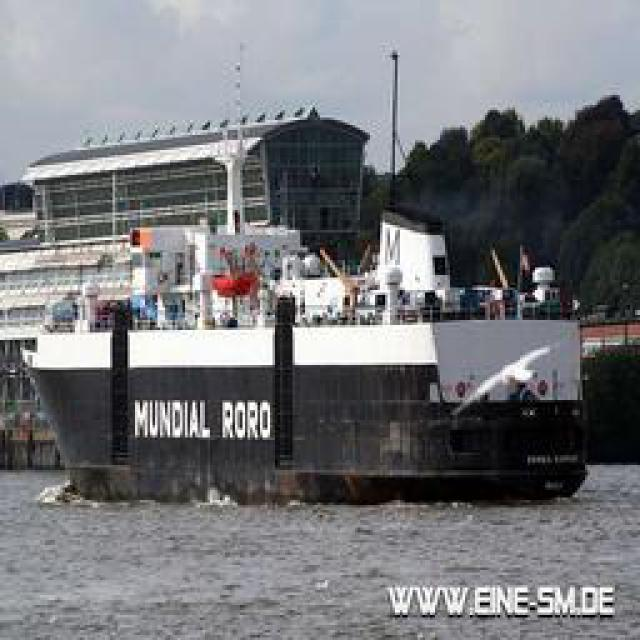Ship: (24, 223, 609, 491)
